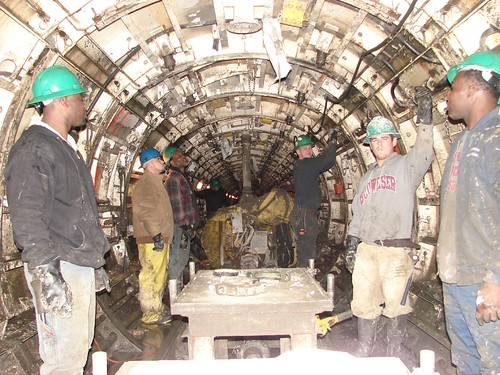person hardhat: (6, 64, 109, 375), (337, 89, 427, 351), (441, 51, 500, 373), (290, 133, 342, 278), (165, 146, 203, 322), (133, 150, 171, 324), (198, 175, 229, 215)
